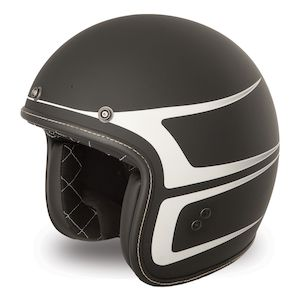with_helmet: (19, 11, 280, 285)
